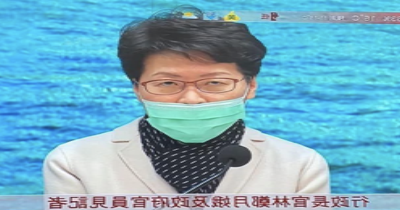mask_weared_incorrect: (136, 69, 246, 144)
